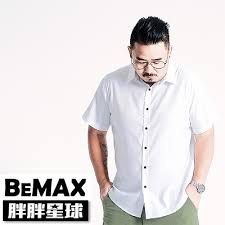S_shirt: (82, 63, 213, 219)
